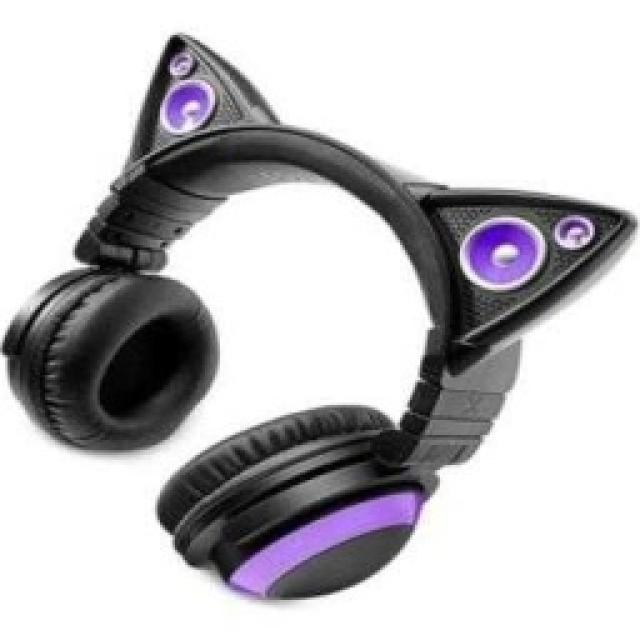headphones: (0, 30, 638, 600)
